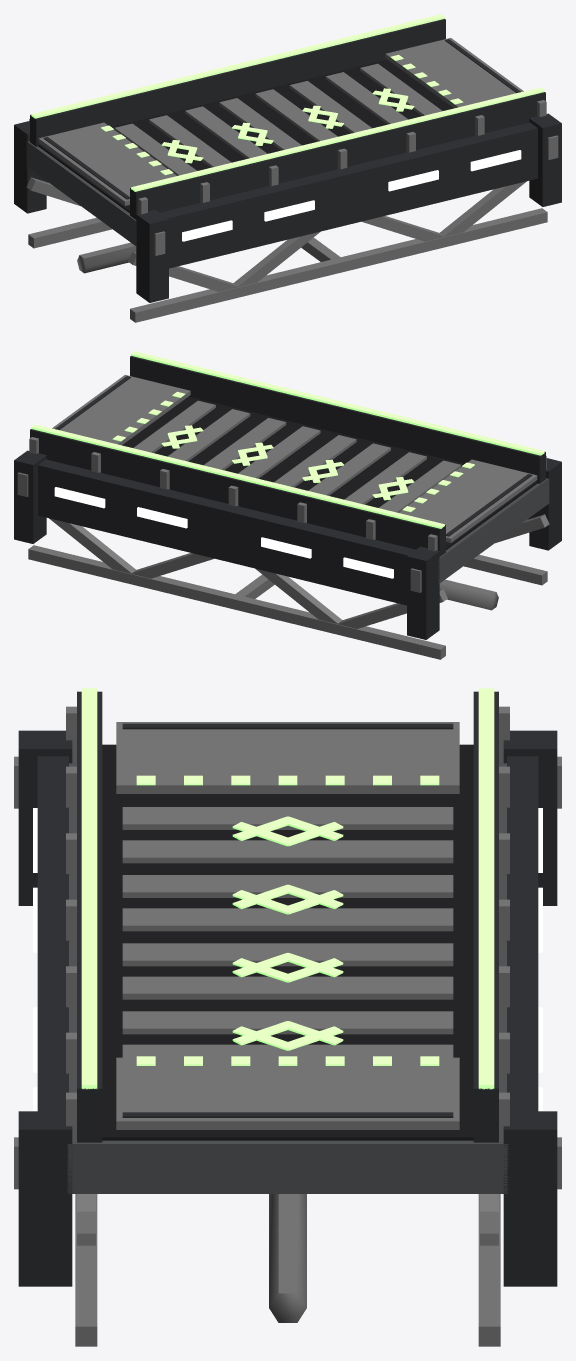
File: Deck_Conveyor_Belt_v4_6.glb
The picture shows the model from 3 angles, top to bottom: view 1: azimuth 30°, elevation 25°; view 2: azimuth 150°, elevation 25°; view 3: azimuth 270°, elevation 25°; orthographic projection. The views are drawn at different scales.
Parts seen in each view (by area): view 1: Deck_Conveyor_Belt_v4_6, Treads, TreadsRev; view 2: Deck_Conveyor_Belt_v4_6, Treads, TreadsRev; view 3: Deck_Conveyor_Belt_v4_6, Treads, TreadsRev.
Part boxes in pixels (<box>): Deck_Conveyor_Belt_v4_6: <box>14,14,561,322</box>; Treads: <box>114,63,442,175</box>; TreadsRev: <box>137,64,440,174</box>; Deck_Conveyor_Belt_v4_6: <box>14,351,561,659</box>; Treads: <box>133,400,461,512</box>; TreadsRev: <box>133,401,439,512</box>; Deck_Conveyor_Belt_v4_6: <box>14,688,561,1346</box>; Treads: <box>122,807,453,1057</box>; TreadsRev: <box>122,807,453,1057</box>.
Bounding box in the file's own units: 6.07 × 1.83 × 3.48.
